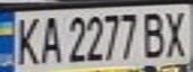2: (63, 11, 87, 64), (84, 11, 106, 63)
7: (118, 10, 142, 61), (103, 11, 124, 62)
A: (36, 12, 63, 65)
B: (139, 8, 172, 59)
K: (12, 12, 42, 66)
X: (160, 7, 193, 60)
